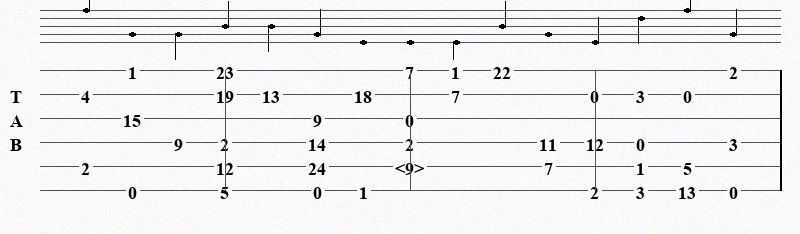0: (128, 182, 141, 198), (313, 182, 326, 198), (405, 110, 418, 126), (590, 86, 603, 102), (636, 134, 649, 150), (683, 86, 696, 102), (729, 182, 742, 198)
1: (128, 62, 141, 78), (359, 182, 372, 198), (451, 62, 464, 78), (636, 158, 649, 174)
11: (539, 134, 561, 150)
12: (216, 158, 238, 174), (586, 134, 608, 150)
13: (262, 86, 284, 102), (678, 182, 700, 198)
14: (308, 134, 330, 150)
15: (123, 110, 145, 126)
18: (354, 86, 376, 102)
19: (216, 86, 238, 102)
2: (81, 158, 94, 174), (220, 134, 233, 150), (405, 134, 418, 150), (590, 182, 603, 198), (729, 62, 742, 78)
22: (493, 62, 515, 78)
23: (216, 62, 238, 78)
24: (308, 158, 330, 174)
3: (636, 182, 649, 198), (636, 86, 649, 102), (729, 134, 742, 150)
4: (81, 86, 94, 102)
5: (220, 182, 233, 198), (683, 158, 696, 174)
7: (405, 62, 418, 78), (451, 86, 464, 102), (544, 158, 557, 174)
9: (174, 134, 187, 150), (313, 110, 326, 126)
harmonic: (395, 158, 428, 174)
